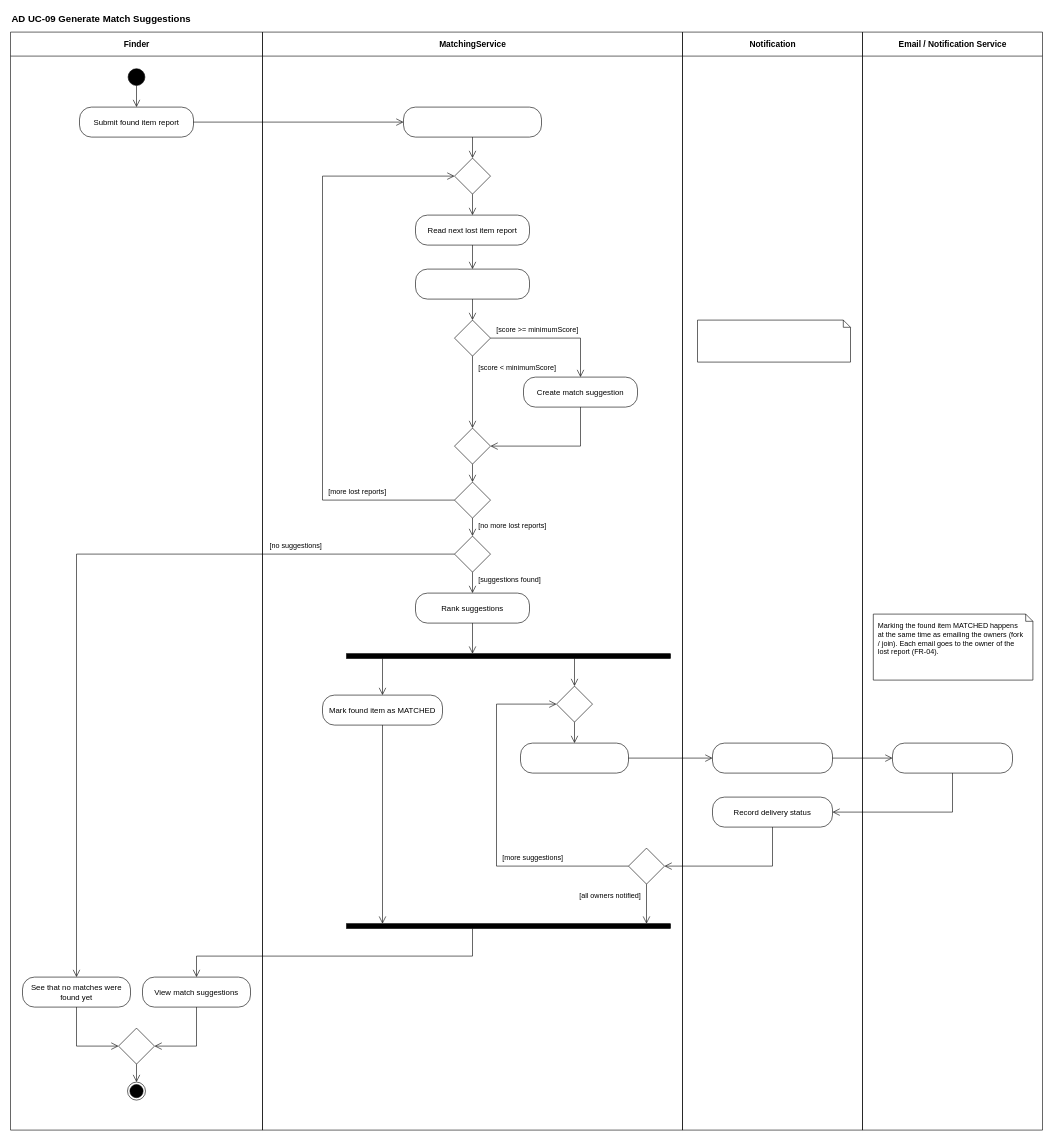
Some shapes in this 1053 by 1141 pixel diagram are drawn without their labels. Each missing label, with the centre of its shape:
"A match suggestion is only created when the score reaches minimumScore (FR-09)." goes at (x=773, y=341).
"Build notification email" goes at (x=772, y=757).
"Calculate match score" goes at (x=472, y=283).
"Get owner's contact email" goes at (x=574, y=757).
"Send email to owner" goes at (x=952, y=757).
"Start matching for the found report" goes at (x=472, y=121).
